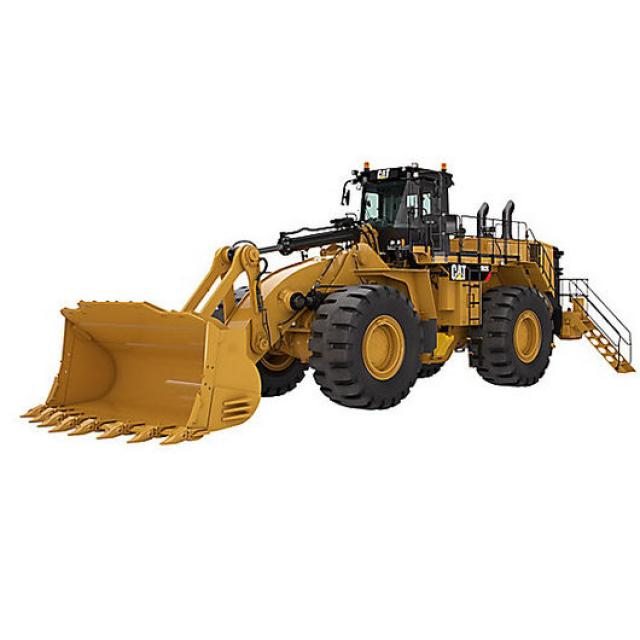buldozerpayloadergrader: (14, 157, 640, 450)
